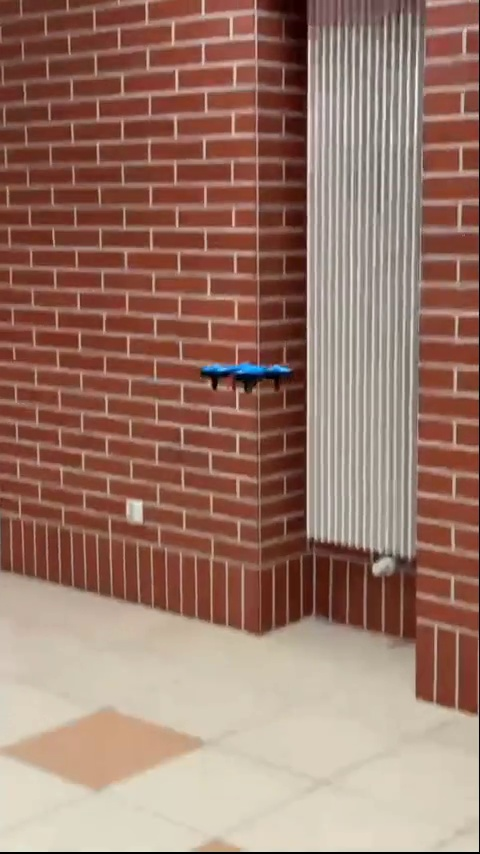drone: (200, 355, 293, 399)
